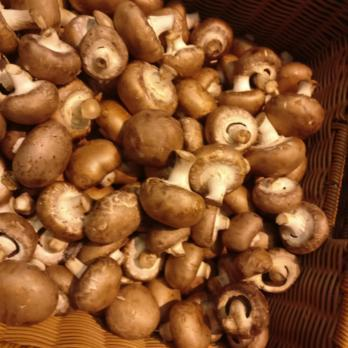Mushroom: (149, 2, 330, 348), (0, 0, 145, 326)
